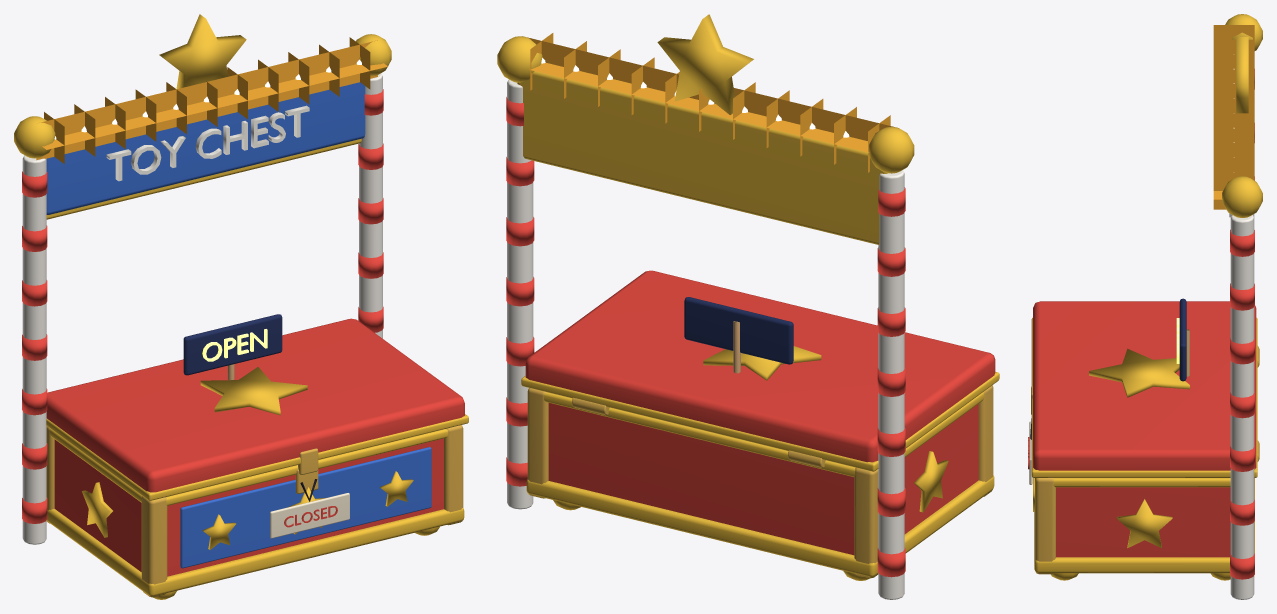
The model's file is toy_station.glb.
The picture shows the model from 3 angles, left to right: view 1: azimuth 30°, elevation 25°; view 2: azimuth 150°, elevation 25°; view 3: azimuth 270°, elevation 25°; orthographic projection. The views are drawn at different scales.
Parts seen in each view (by area): view 1: Station, Shutter, OpenDressing, ClosedSign; view 2: Station, Shutter, OpenDressing; view 3: Station, Shutter, OpenDressing.
Boxes of the visible parts, left/top/right/bottom form: Station: left=14, top=14, right=464, bottom=599; Shutter: left=46, top=318, right=468, bottom=500; OpenDressing: left=183, top=314, right=282, bottom=380; ClosedSign: left=270, top=479, right=349, bottom=538; Station: left=497, top=14, right=994, bottom=599; Shutter: left=521, top=270, right=999, bottom=471; OpenDressing: left=684, top=297, right=793, bottom=373; Station: left=1033, top=14, right=1262, bottom=599; Shutter: left=1031, top=301, right=1259, bottom=477; OpenDressing: left=1176, top=298, right=1189, bottom=381.
Bounding box in the file's own units: 6.08 × 7.56 × 3.36.
